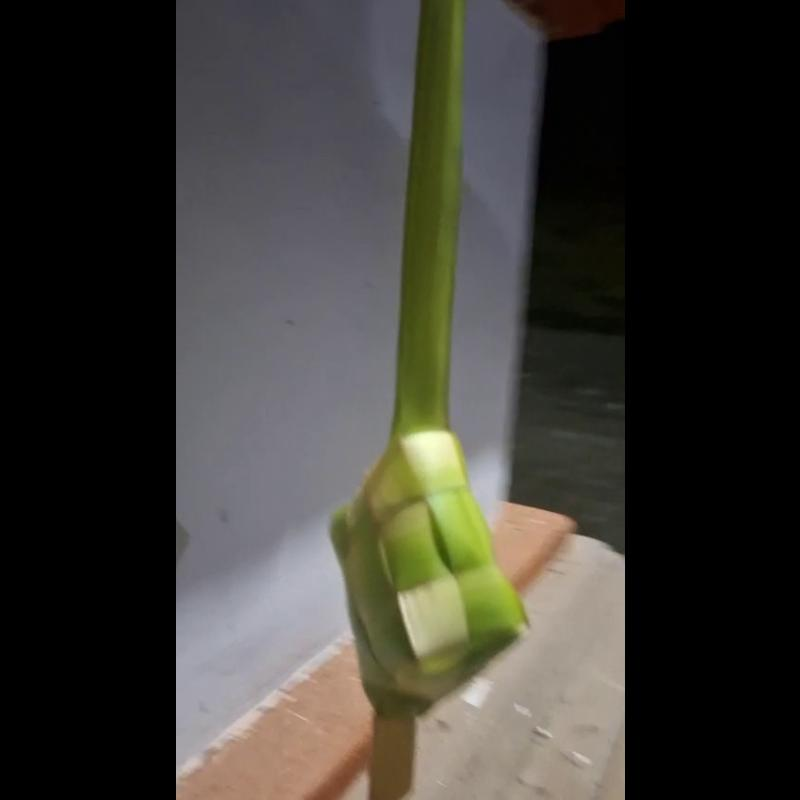Tipat Nasi: (321, 418, 529, 793)
